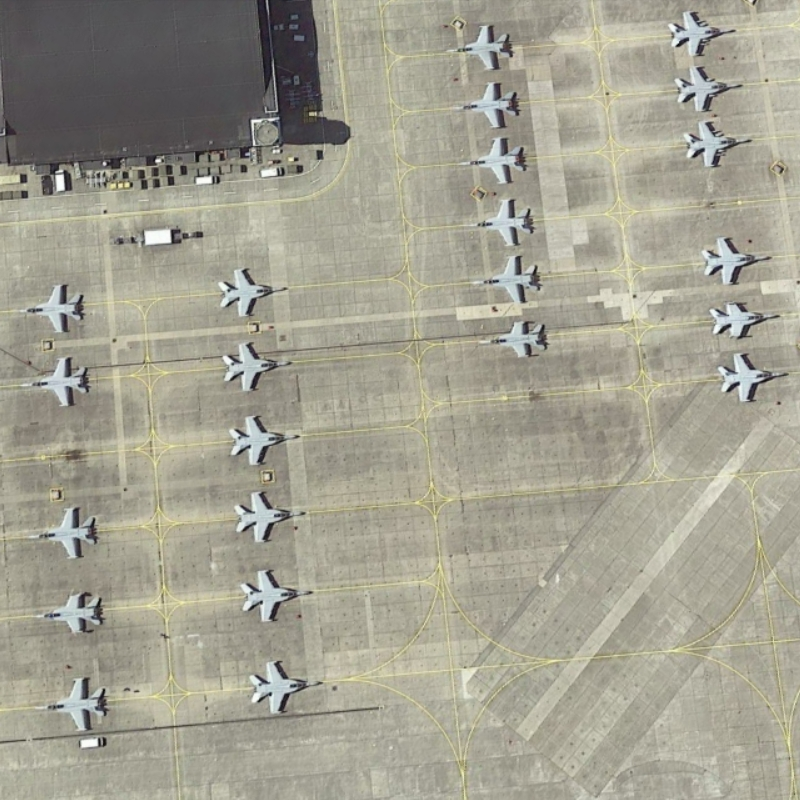A16: (21, 671, 113, 742), (242, 650, 327, 726), (13, 497, 104, 563), (233, 562, 315, 632), (208, 261, 293, 324), (694, 230, 778, 293), (230, 483, 310, 548), (7, 273, 87, 338), (226, 407, 304, 473), (14, 349, 93, 414), (214, 333, 294, 397), (19, 583, 109, 639), (451, 134, 536, 192), (676, 114, 754, 177), (450, 194, 538, 249), (460, 251, 545, 307), (467, 310, 555, 364), (443, 76, 526, 132), (667, 61, 747, 119), (715, 350, 791, 411), (661, 5, 741, 62), (440, 16, 517, 74), (699, 295, 785, 346)
